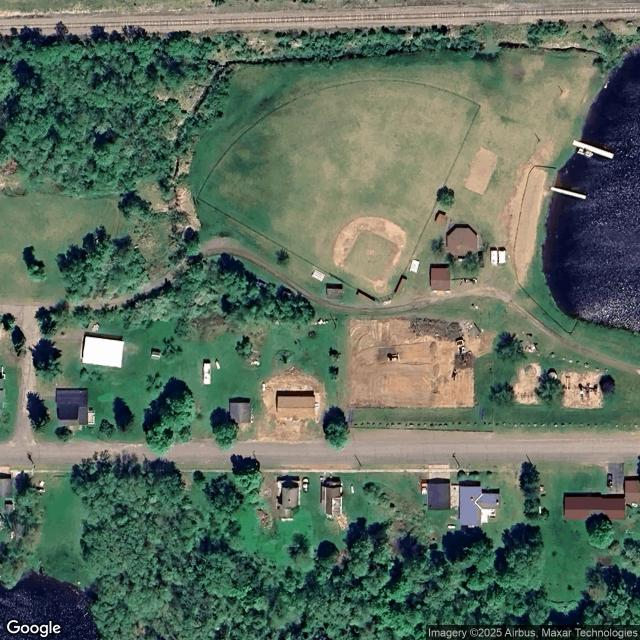Propane: (261, 383, 266, 392), (447, 525, 456, 529), (351, 486, 355, 494), (539, 507, 542, 514)
